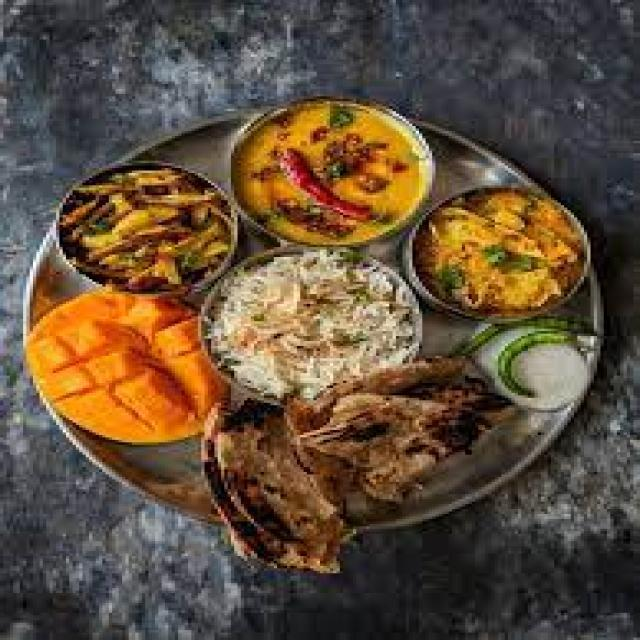raita: (480, 328, 606, 425)
rice: (198, 244, 418, 405)
roti: (227, 356, 478, 551)
veg-fry: (208, 87, 444, 255), (407, 173, 598, 325), (48, 156, 235, 296), (283, 1, 405, 90)
